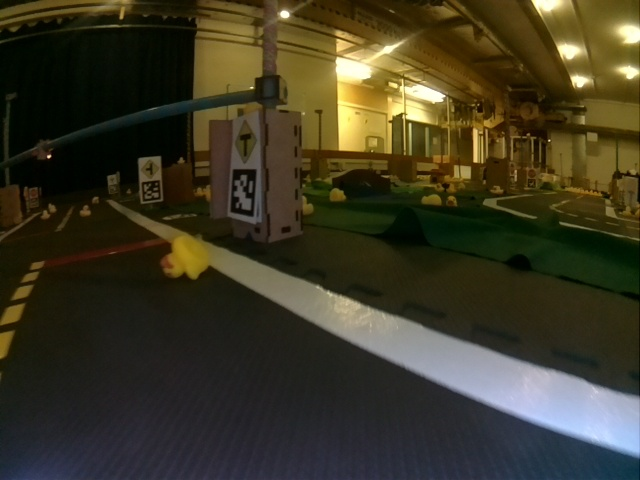Duckie: (161, 235, 209, 280), (302, 196, 314, 215), (329, 188, 346, 201), (422, 194, 441, 205), (446, 196, 457, 206), (80, 206, 91, 216), (40, 210, 50, 220), (436, 183, 445, 192)
Intersection sign: (234, 119, 258, 164), (141, 160, 161, 178)
QR code: (229, 168, 258, 218), (142, 180, 163, 202)
